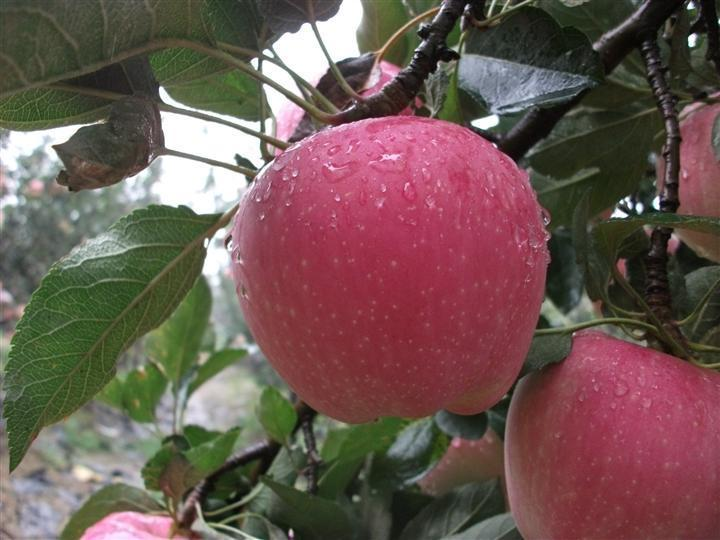apple: (228, 119, 547, 427), (504, 332, 720, 540)
